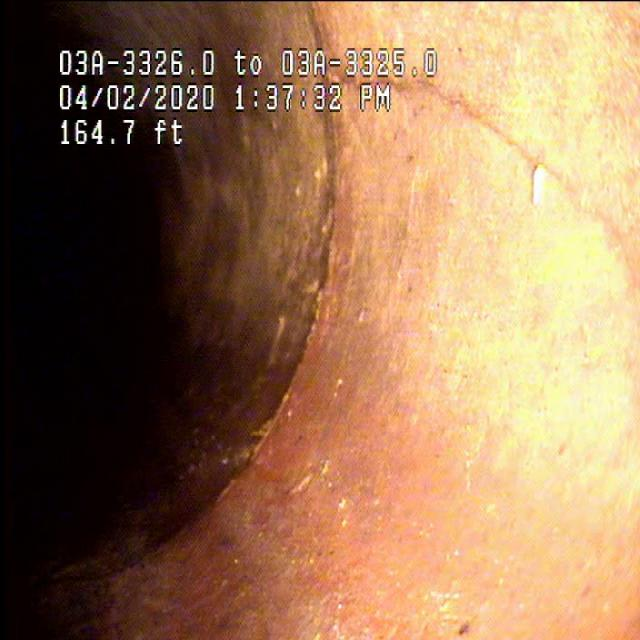Crack: (463, 76, 594, 236)
